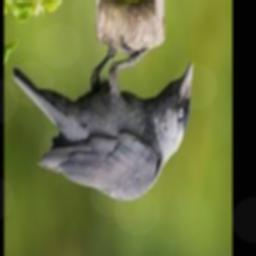Crow: (10, 37, 192, 202)
